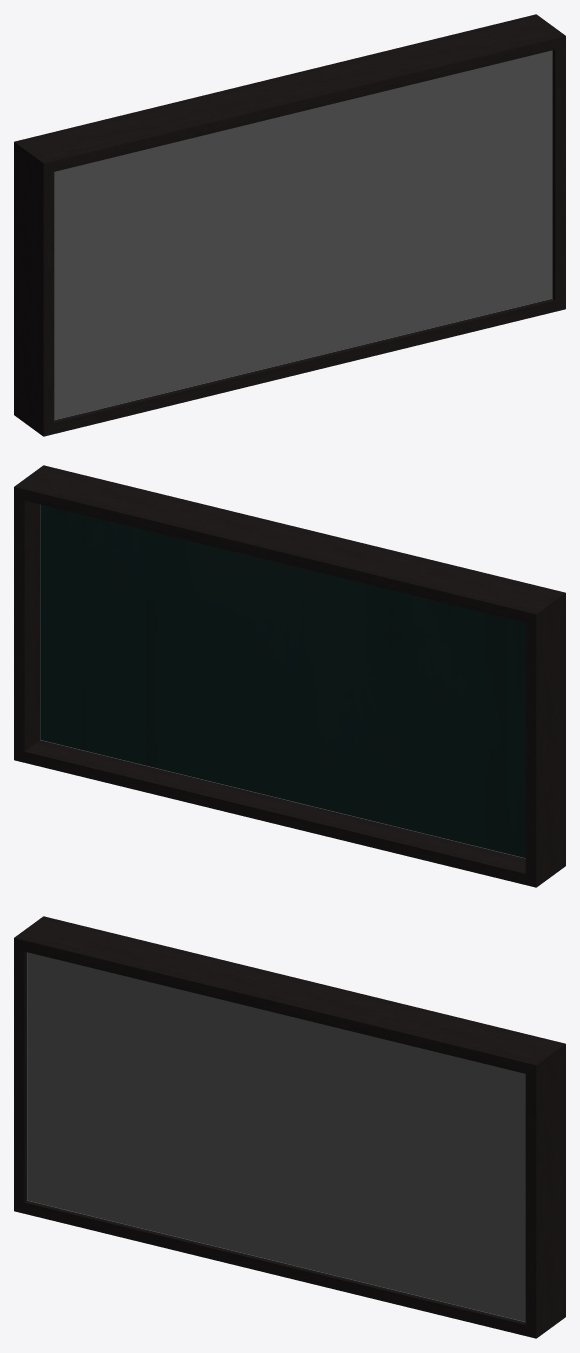
Rendered from Window.fbx.
3 views of the same model, one above another, from view 1: azimuth 30°, elevation 25°; view 2: azimuth 150°, elevation 25°; view 3: azimuth 330°, elevation 25° (orthographic).
Visible parts, largest first — view 1: Window; view 2: WindowGlass, Window; view 3: Window.
Part boxes in pixels (box(x1,y1,x2,y2)): Window: box(14, 14, 565, 436); WindowGlass: box(40, 504, 525, 857); Window: box(14, 465, 565, 887); Window: box(14, 916, 565, 1338).
Size of the model in its own units: 245 by 123 by 24.
